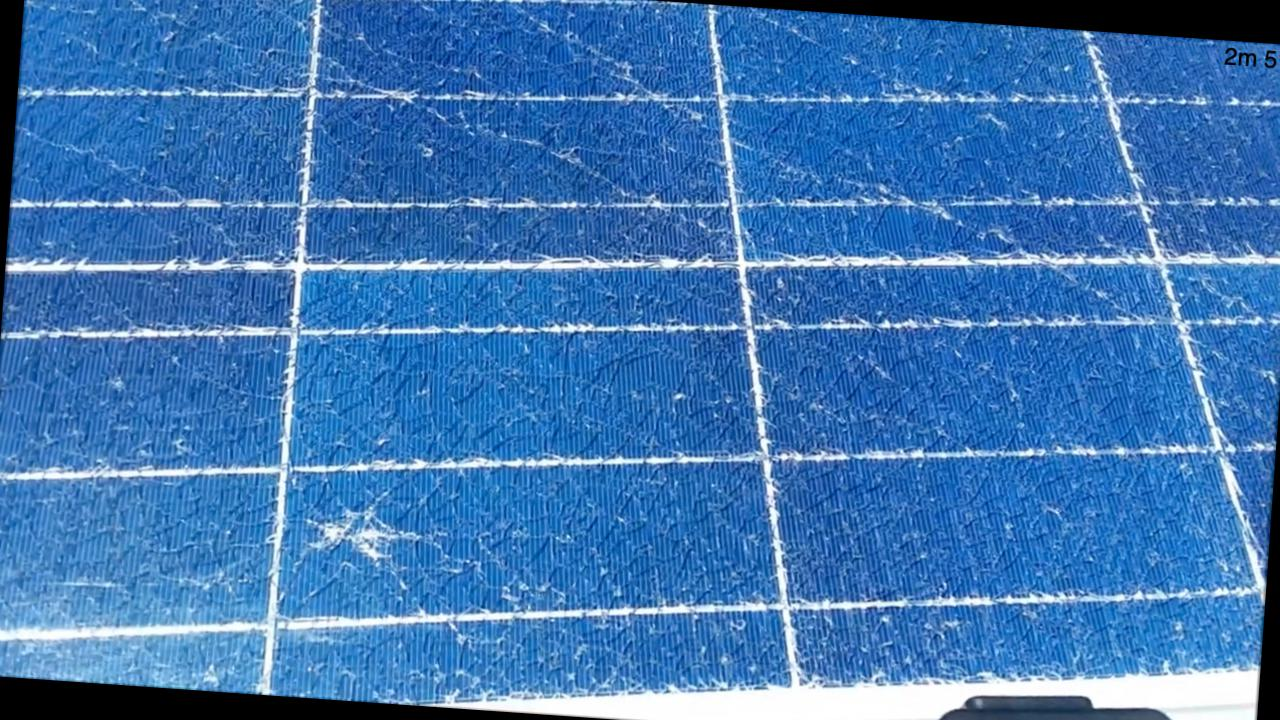Crack: (287, 3, 1253, 424), (281, 468, 458, 590)
